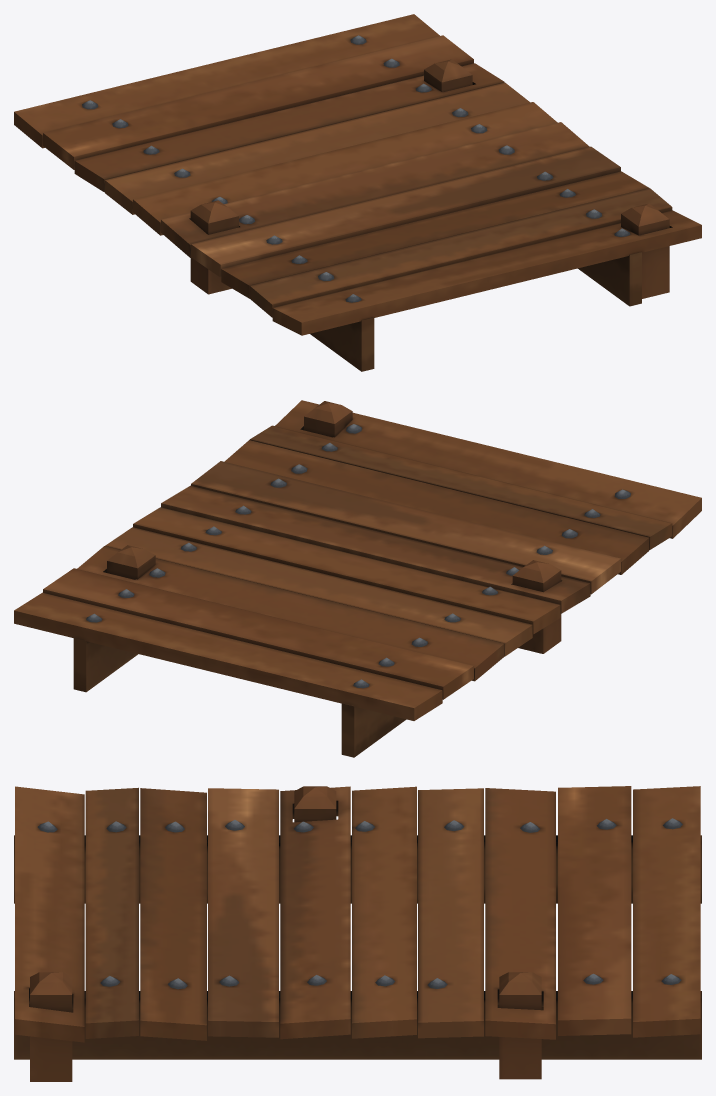
The model's file is 1PAr_BoisCentre.FBX.
The picture shows the model from 3 angles, top to bottom: view 1: azimuth 30°, elevation 25°; view 2: azimuth 150°, elevation 25°; view 3: azimuth 270°, elevation 25°; orthographic projection. The views are drawn at different scales.
Parts seen in each view (by area): view 1: 1PAr_BoisCentre; view 2: 1PAr_BoisCentre; view 3: 1PAr_BoisCentre.
Boxes of the visible parts, box(x1,y1,x2,y2) form: 1PAr_BoisCentre: box(14, 14, 701, 371); 1PAr_BoisCentre: box(14, 400, 701, 757); 1PAr_BoisCentre: box(14, 786, 701, 1081).
Size of the model in its own units: 8 by 1.6 by 10.
